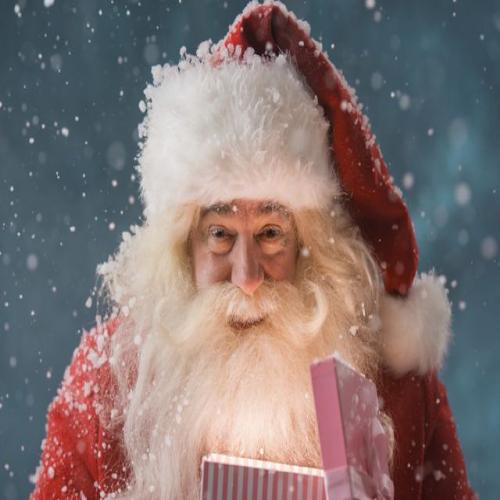Santa: (30, 0, 477, 500)
